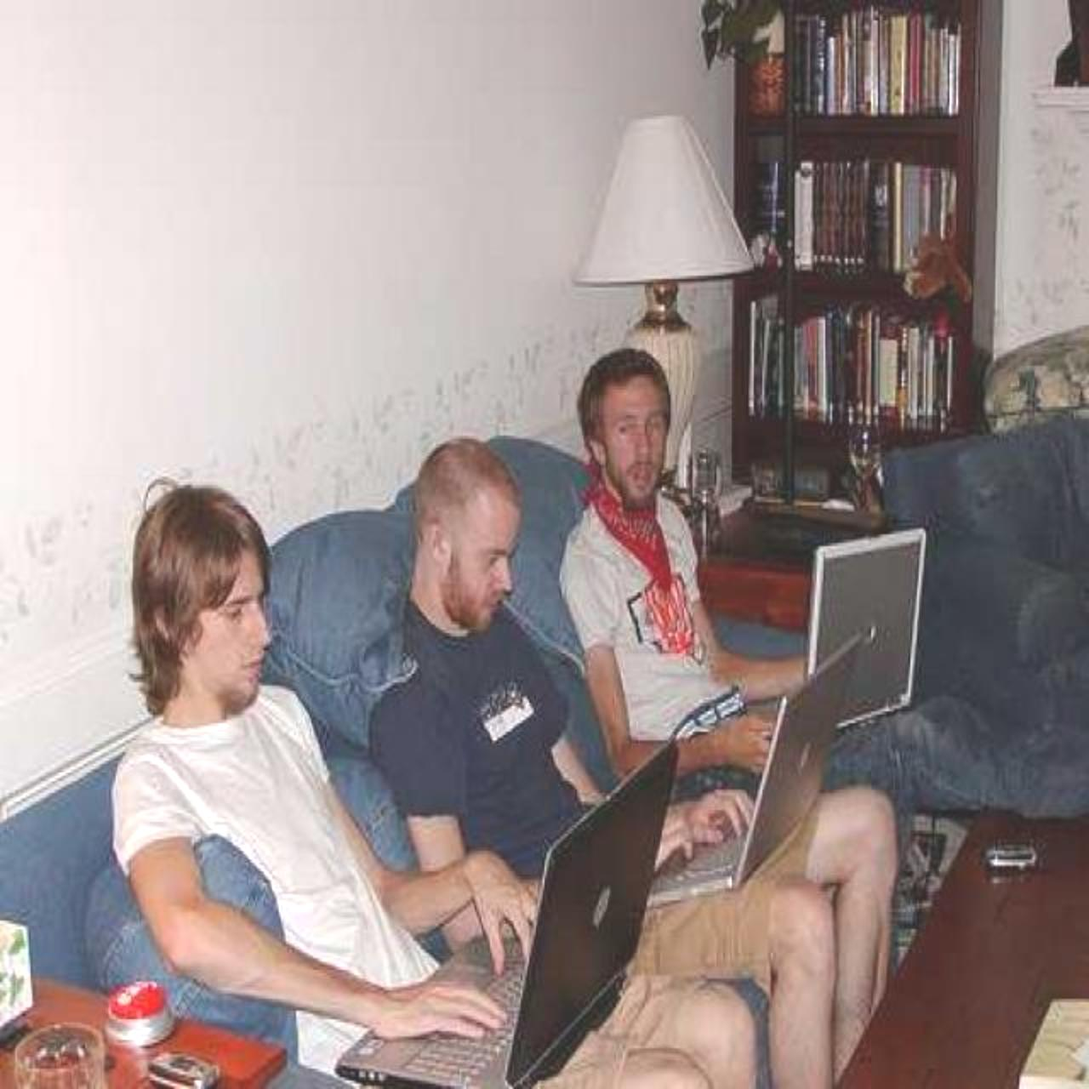laptop: (410, 752, 669, 1089), (687, 641, 862, 897), (775, 499, 940, 712)
